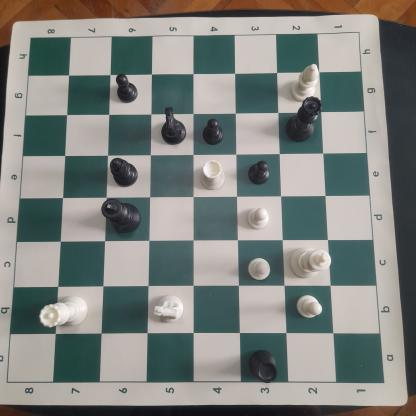black-bishop: (108, 155, 140, 191)
black-king: (99, 195, 143, 237)
black-knight: (160, 106, 188, 147)
black-pawn: (114, 72, 140, 104), (200, 116, 224, 146), (247, 159, 271, 186)
black-queen: (283, 95, 323, 144)
black-rook: (248, 346, 280, 385)
white-bishop: (290, 62, 321, 105)
white-king: (287, 242, 333, 282)
white-knight: (152, 292, 186, 325)
white-pawn: (294, 290, 324, 322), (244, 203, 271, 232), (247, 254, 272, 282)
white-queen: (35, 292, 92, 332)
white-rook: (198, 158, 228, 192)
